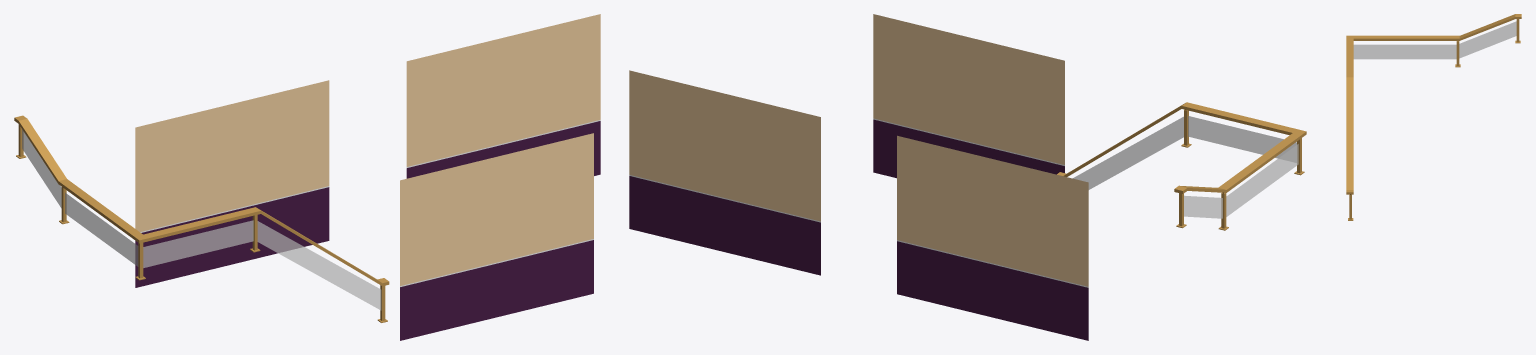
Rendered from railingsDownstairs.glb.
The picture shows the model from 3 angles, left to right: view 1: azimuth 30°, elevation 25°; view 2: azimuth 150°, elevation 25°; view 3: azimuth 270°, elevation 25°; orthographic projection. The views are drawn at different scales.
Parts seen in each view (by area): view 1: goldWalls, goldWalls.002, goldWalls.001, Cube.195, Cube.196; view 2: goldWalls.002, goldWalls.001, goldWalls, Cube.195, Cube.196; view 3: Cube.195, Cube.196.
Part boxes in pixels (x1,y1,x2,y2): goldWalls: (400,133,593,340); goldWalls.002: (135,80,329,287); goldWalls.001: (406,14,600,178); Cube.195: (22,129,381,310); Cube.196: (14,115,389,286); goldWalls.002: (897,135,1088,340); goldWalls.001: (629,70,820,275); goldWalls: (873,14,1064,178); Cube.195: (1072,116,1298,218); Cube.196: (1057,102,1306,193); Cube.195: (1353,21,1516,59); Cube.196: (1346,14,1521,194).
Bounding box in the file's own units: 11.18 × 3.5 × 4.49.
Materials: 3 (1 with a texture image).
